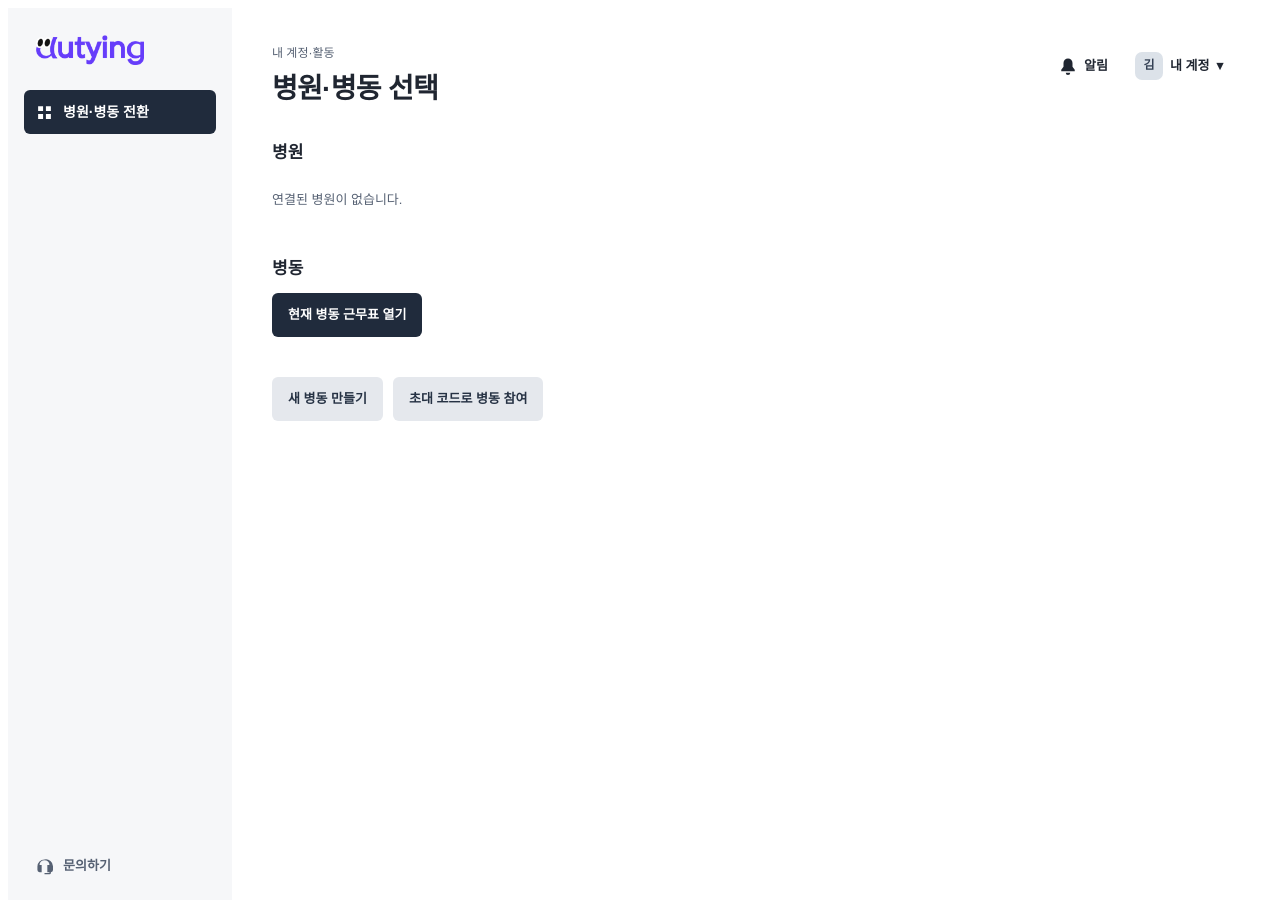
Test: hospital management workspace › preserves the ward start actions when hospital management is unavailable
Click the link "새 병동 만들기": x=328, y=399 [272, 377, 383, 421]
(page scrolled)
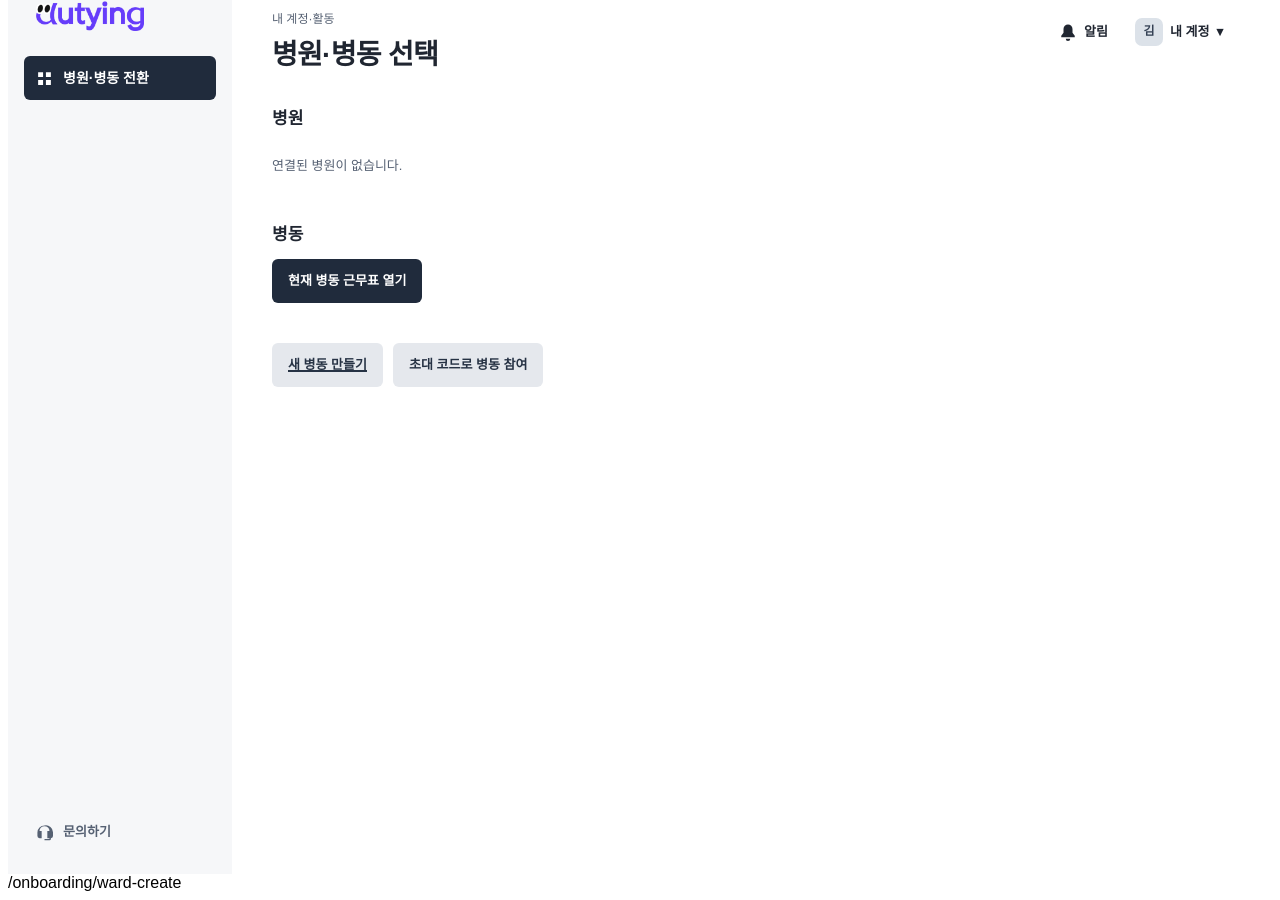
expect the text named "current route" reads "/onboarding/ward-create": met, box [8, 874, 181, 891]
